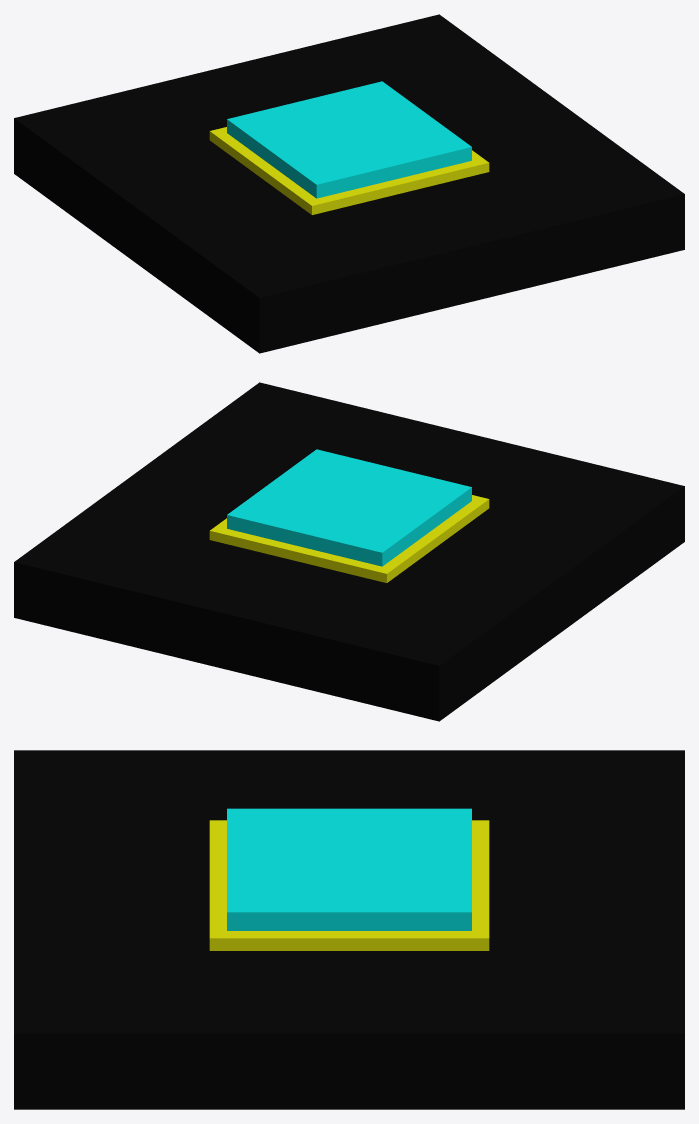
Rendered from green_cy.glb.
The picture shows the model from 3 angles, top to bottom: view 1: azimuth 30°, elevation 25°; view 2: azimuth 150°, elevation 25°; view 3: azimuth 270°, elevation 25°; orthographic projection. The views are drawn at different scales.
Visible parts, largest first — view 1: Cube; view 2: Cube; view 3: Cube.
Part boxes in pixels (<box>): Cube: <box>14,14,684,353</box>; Cube: <box>14,382,684,721</box>; Cube: <box>14,750,684,1109</box>.
Size of the model in its own units: 2.4 by 0.4246 by 2.4.
